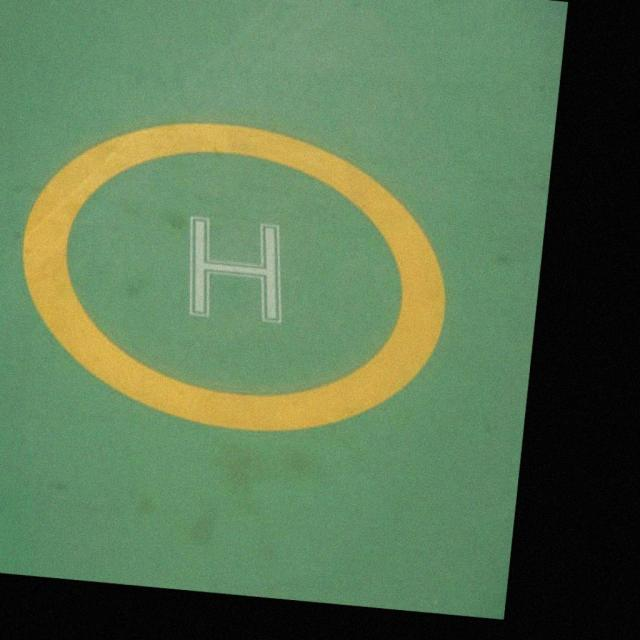helipad: (13, 118, 451, 438)
